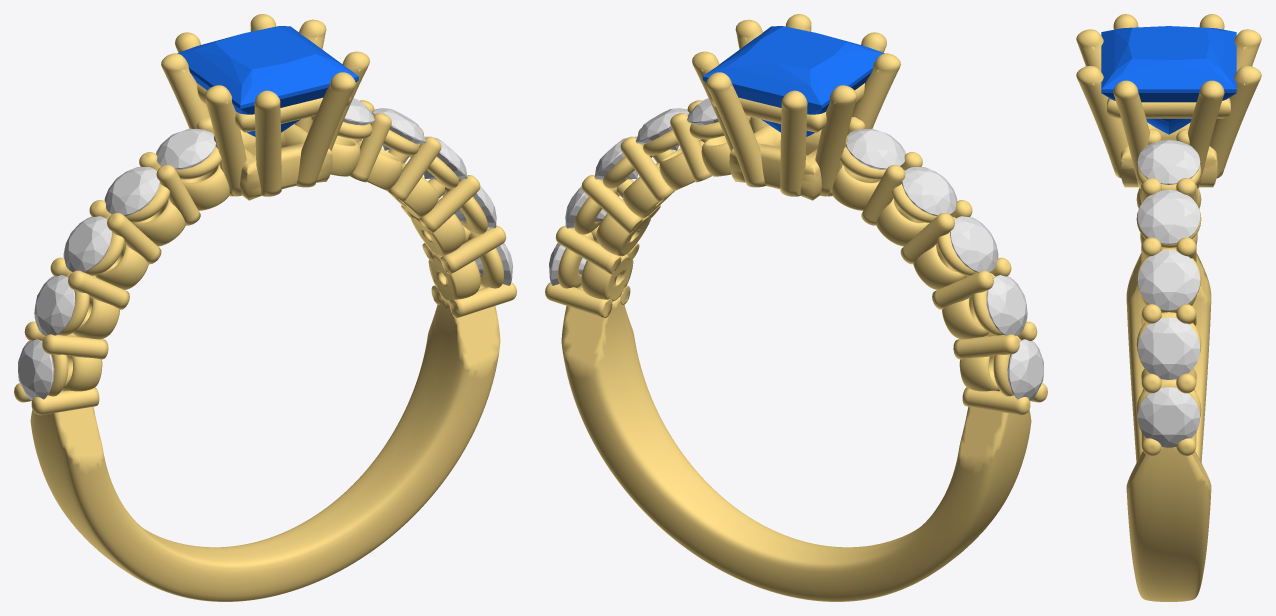
Rendered from bluesapphire-princess-yellowgold-8prong-straighttaperedband-11stone.glb.
3 renders of one model, left to right at view 1: azimuth 30°, elevation 25°; view 2: azimuth 150°, elevation 25°; view 3: azimuth 270°, elevation 25°, orthographic.
Visible parts, largest first — view 1: metal, stone, side.002, side.003, side.001, side.004, side, side.006, side.007; view 2: metal, stone, side.002, side.003, side.001, side.004, side, side.006, side.007; view 3: metal, stone, side.008, side.007, side.009, side.006, side.005.
Part boxes in pixels (<box>): metal: <box>14,14,516,601</box>; stone: <box>177,26,358,136</box>; side.002: <box>63,216,111,272</box>; side.003: <box>104,167,159,215</box>; side.001: <box>34,275,75,335</box>; side.004: <box>156,128,216,169</box>; side: <box>18,339,54,400</box>; side.006: <box>372,108,426,150</box>; side.007: <box>424,136,467,179</box>; metal: <box>545,14,1047,601</box>; stone: <box>703,26,884,136</box>; side.002: <box>950,216,998,272</box>; side.003: <box>902,167,957,215</box>; side.001: <box>986,275,1027,335</box>; side.004: <box>845,128,905,169</box>; side: <box>1007,339,1043,400</box>; side.006: <box>635,108,689,150</box>; side.007: <box>594,136,637,179</box>; metal: <box>1076,14,1261,601</box>; stone: <box>1101,26,1236,134</box>; side.008: <box>1137,317,1200,379</box>; side.007: <box>1137,250,1200,310</box>; side.009: <box>1137,387,1200,447</box>; side.006: <box>1137,189,1200,244</box>; side.005: <box>1137,139,1200,184</box>.
Bounding box in the file's own units: 22.05 × 23.65 × 7.42.
